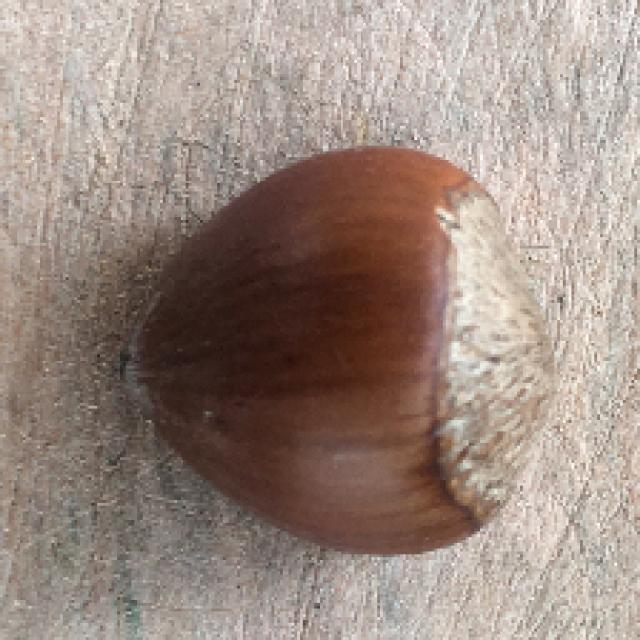qualityHazelnut: (125, 143, 558, 558)
